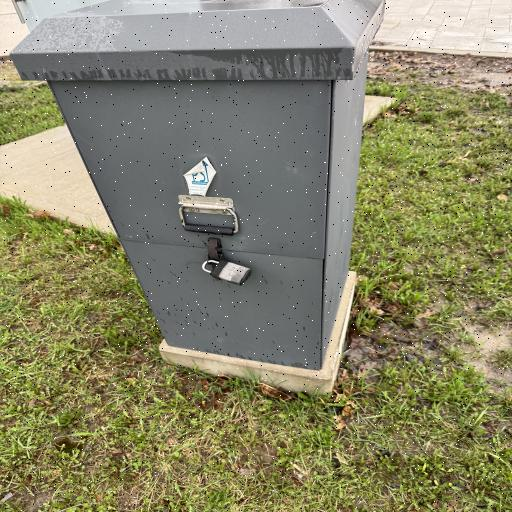Electrical Box: (10, 0, 399, 372)
